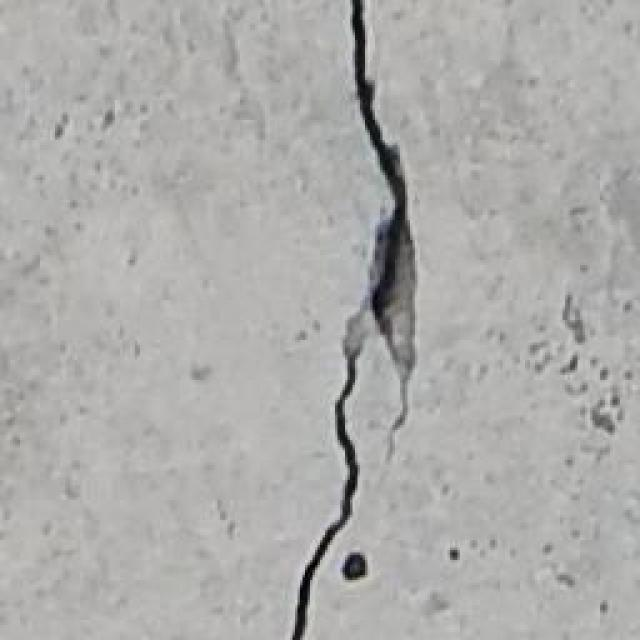concrete-crack: (290, 0, 418, 640), (340, 550, 370, 582), (445, 542, 462, 562)
